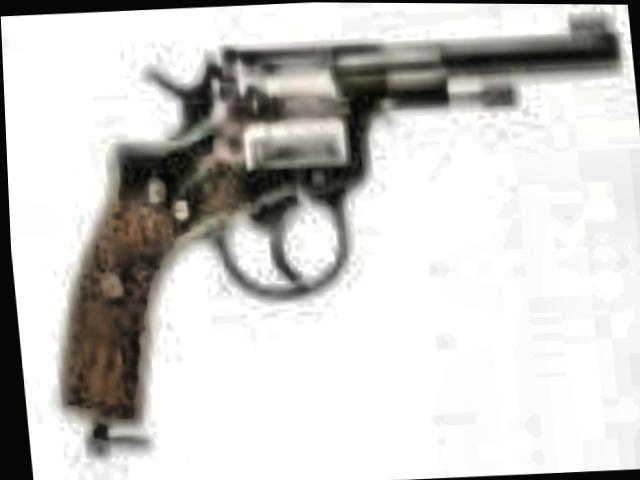pistol: (17, 1, 635, 427)
